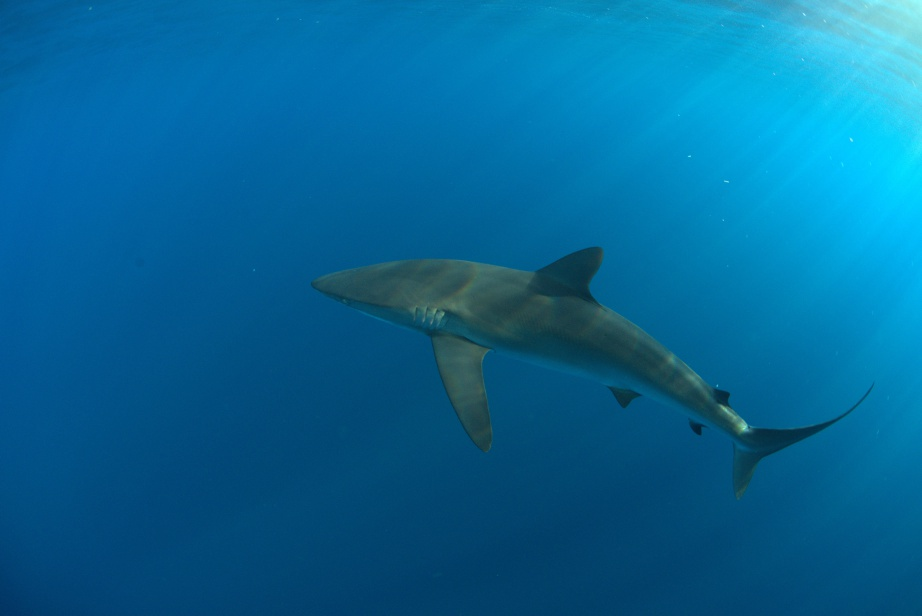Sedoso: (303, 237, 879, 508)
